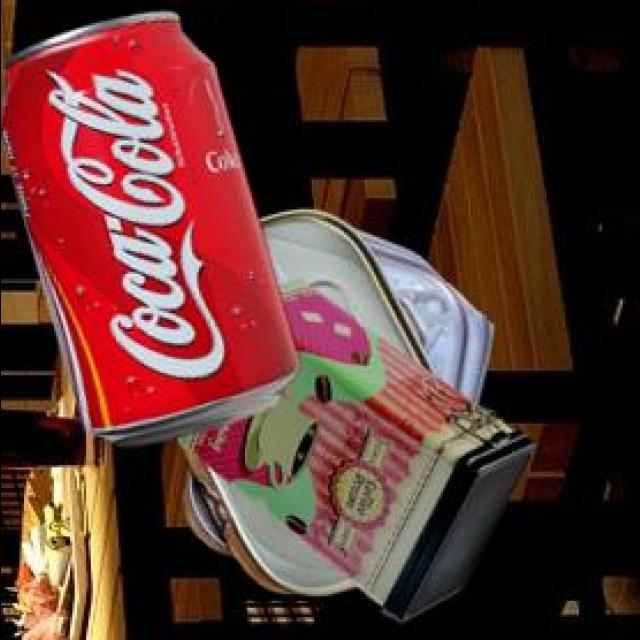logam: (0, 15, 294, 450), (176, 284, 531, 625), (181, 213, 489, 600)
